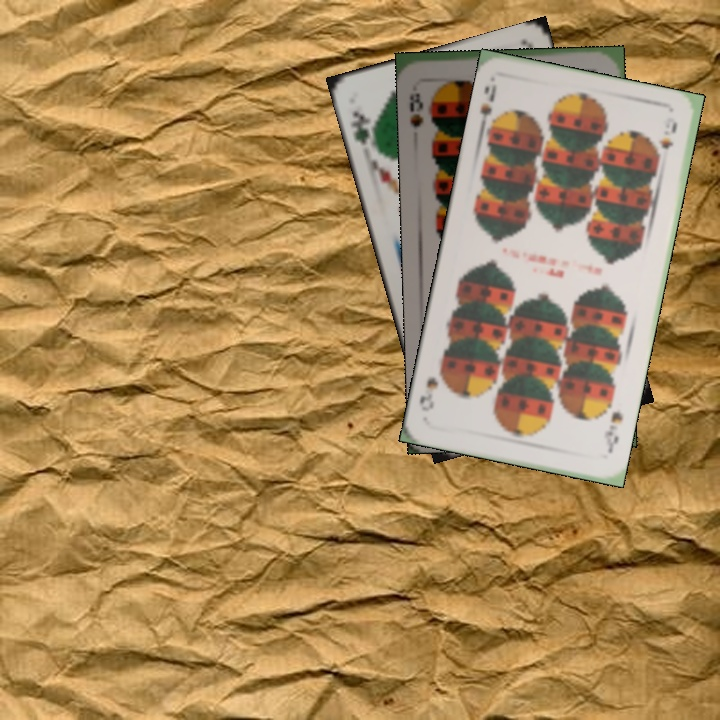GK: (346, 107, 373, 148)
S8: (405, 88, 426, 130)
S9: (475, 80, 502, 136), (600, 407, 625, 456)
